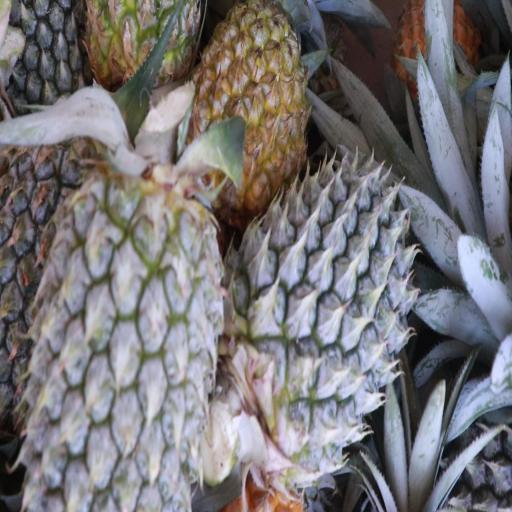Pineapple - v8 v1: (192, 0, 310, 201)
